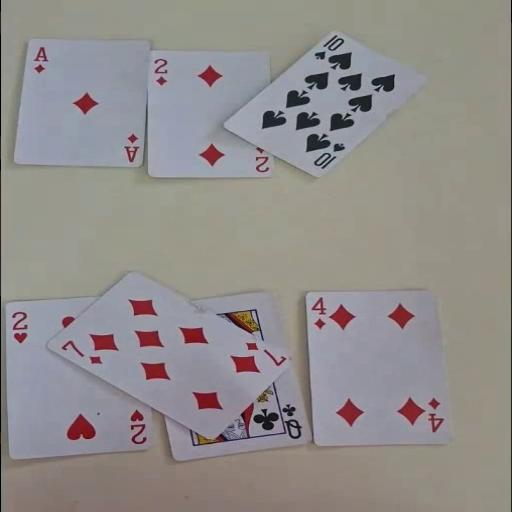10: (311, 140, 347, 170), (311, 33, 346, 61)
2: (126, 407, 148, 445), (8, 310, 29, 344), (152, 56, 170, 86), (252, 147, 272, 174)
4: (425, 395, 445, 434), (309, 295, 328, 331)
7: (57, 338, 104, 365), (243, 340, 288, 367)
A: (122, 132, 140, 164), (31, 44, 50, 74)
Q: (278, 401, 304, 440)
